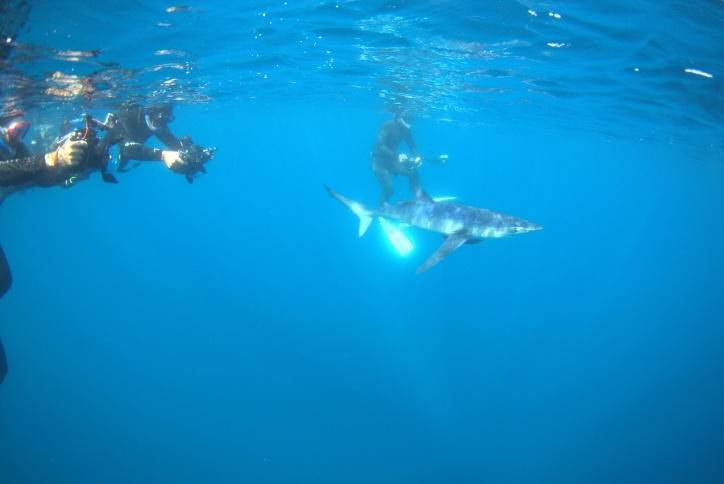Azul: (313, 165, 549, 278)
